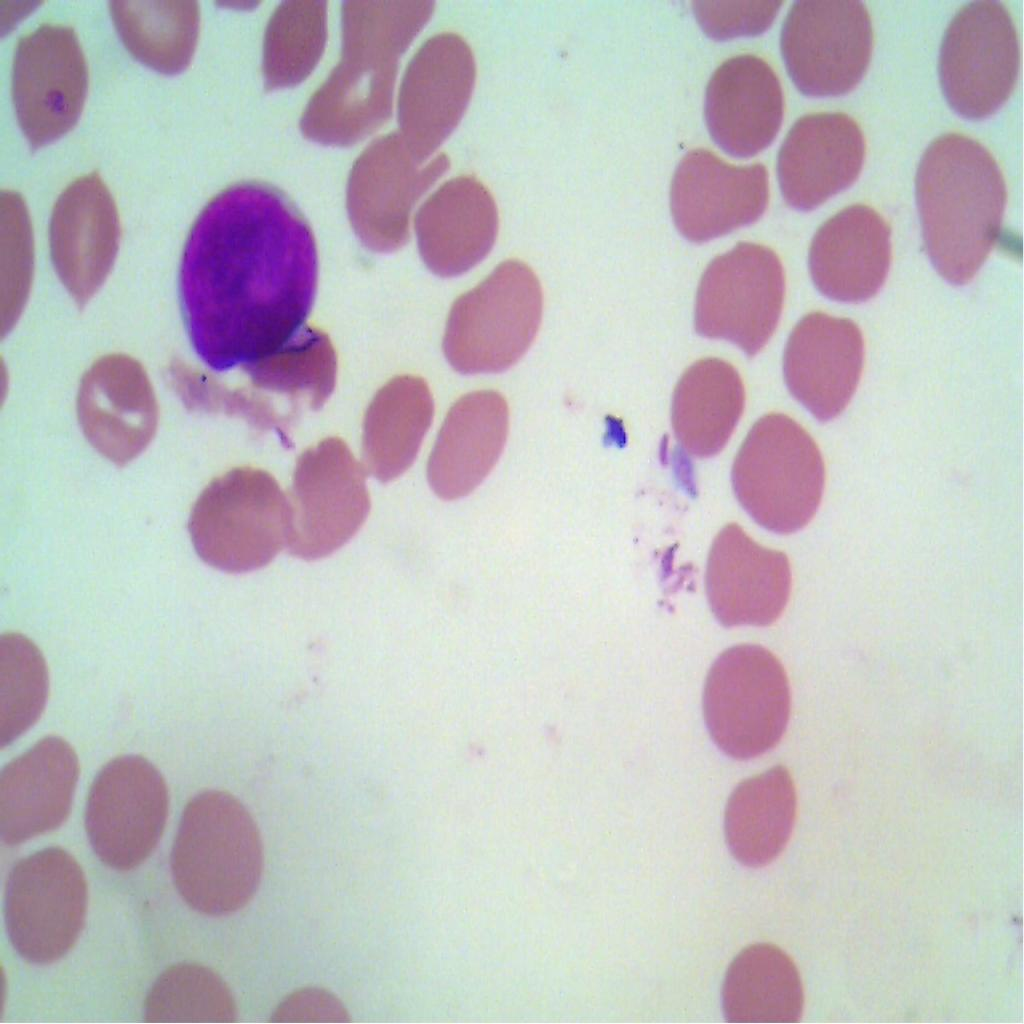Eritrosit: (334, 116, 442, 262), (169, 781, 271, 930), (914, 132, 1008, 292), (728, 405, 834, 542), (41, 158, 130, 319), (63, 337, 166, 475), (441, 260, 546, 390), (184, 448, 289, 577), (690, 231, 789, 367), (0, 838, 93, 980), (284, 428, 375, 568), (690, 37, 790, 162), (695, 642, 796, 765), (659, 140, 771, 250), (79, 748, 176, 874), (770, 104, 878, 214), (396, 32, 493, 154), (774, 308, 875, 425), (793, 194, 899, 305), (424, 385, 516, 512), (770, 0, 880, 106), (4, 18, 95, 145), (701, 525, 799, 639), (719, 755, 801, 888), (303, 38, 395, 152), (931, 0, 1017, 118), (661, 345, 743, 468), (0, 734, 82, 850), (359, 352, 428, 487), (416, 162, 496, 277), (719, 922, 809, 1023), (98, 0, 206, 82), (255, 0, 325, 100)
Limfoblast: (179, 168, 321, 364)
Platelet: (604, 404, 630, 461)
